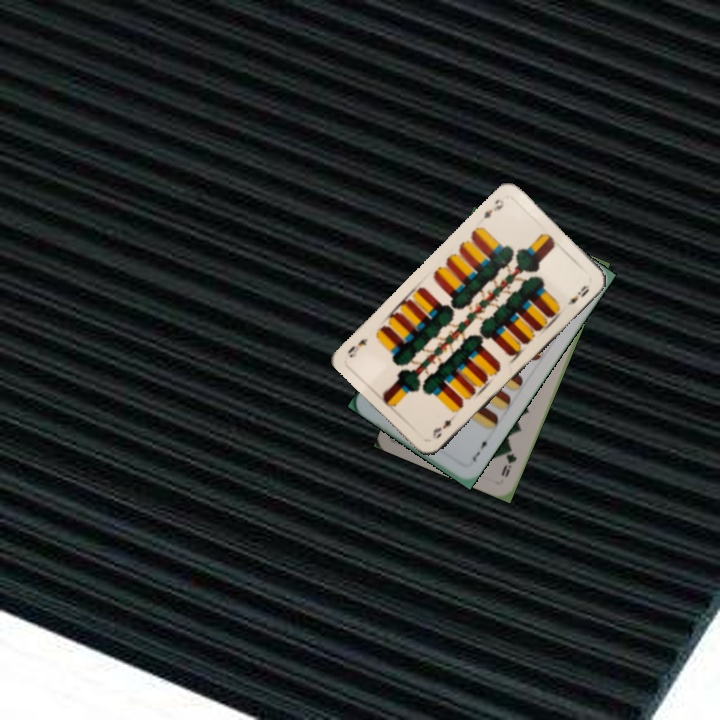E7: (468, 433, 492, 464)
E9: (428, 415, 454, 442), (479, 195, 506, 221)
G9: (497, 445, 519, 480)
